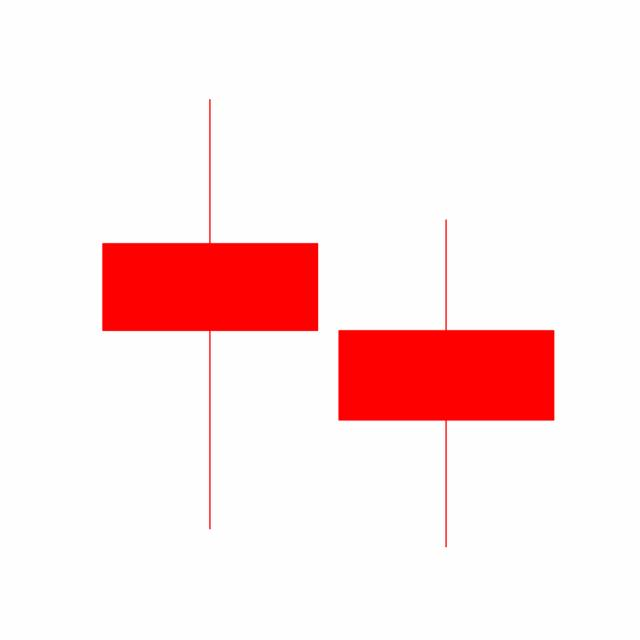Spinning Top: (327, 216, 565, 551)
